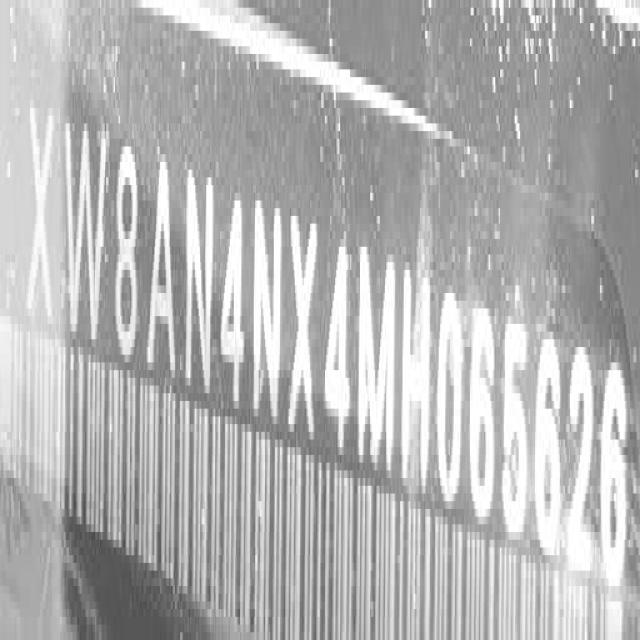0: (436, 284, 464, 512)
2: (568, 350, 596, 580)
4: (324, 228, 351, 464), (220, 186, 246, 417)
5: (504, 311, 530, 540)
6: (533, 322, 563, 560), (600, 354, 628, 594), (467, 295, 494, 526)
8: (118, 140, 140, 364)
A: (147, 156, 175, 388)
H: (400, 240, 431, 505)
M: (355, 237, 398, 482)
N: (252, 191, 284, 430), (185, 164, 214, 406)
W: (62, 111, 107, 347)
X: (290, 203, 321, 449), (26, 98, 55, 334)
